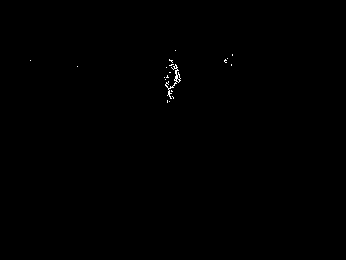person: (163, 57, 182, 106)
